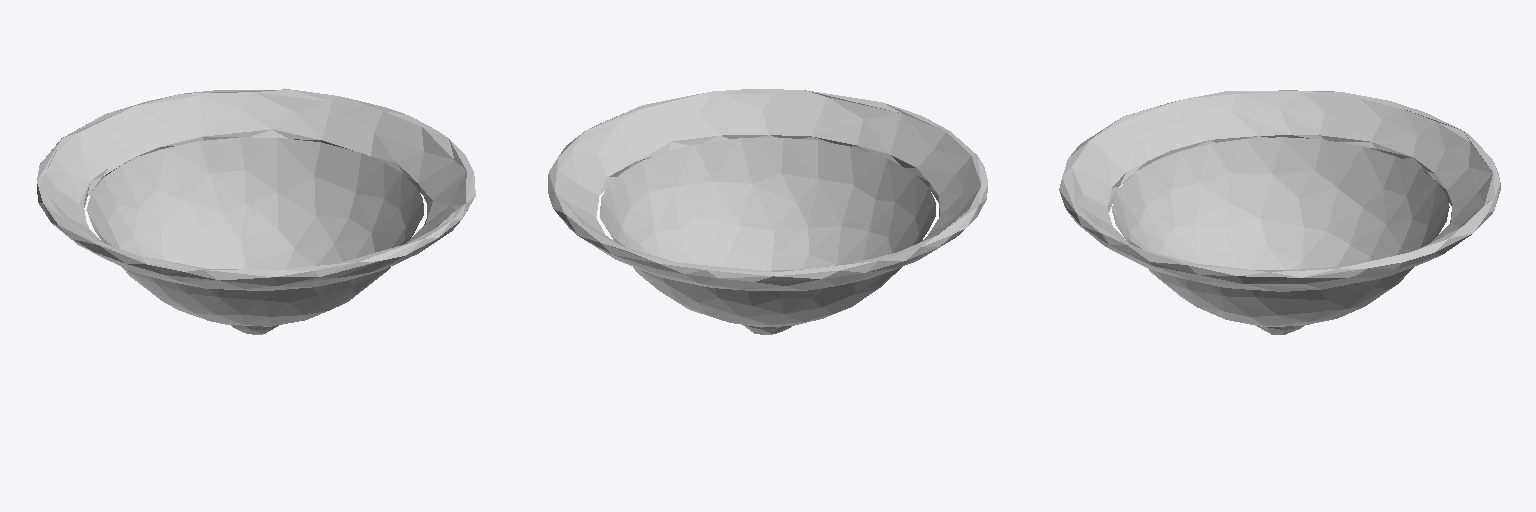
The model's file is CeilingLightCollider.obj.
3 views of the same model, side by side, from view 1: azimuth 30°, elevation 25°; view 2: azimuth 150°, elevation 25°; view 3: azimuth 270°, elevation 25° (orthographic).
Visible parts, largest first — view 1: Sphere.002; view 2: Sphere.002; view 3: Sphere.002.
Boxes of the visible parts, <box> form: Sphere.002: <box>37,89,475,334</box>; Sphere.002: <box>548,89,987,334</box>; Sphere.002: <box>1059,90,1500,334</box>.
Bounding box in the file's own units: 2.4 × 0.915 × 2.4.